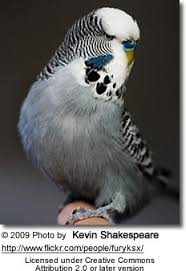budgie: (17, 7, 151, 224)
